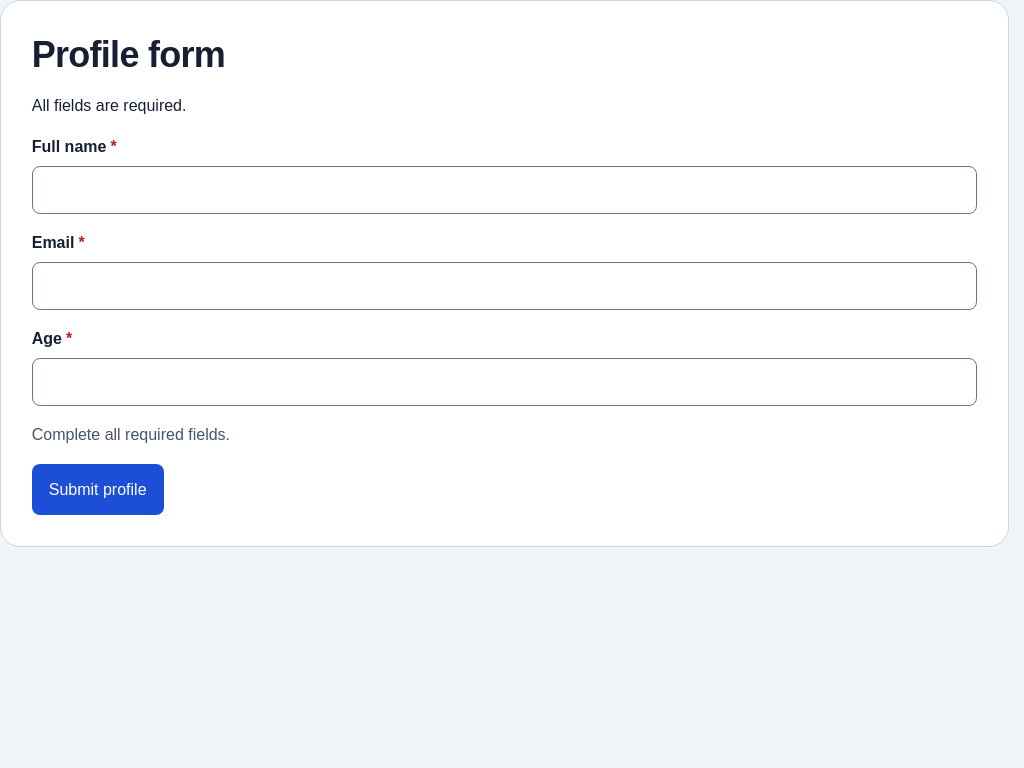
Scenario: Valid submit and ShowData › updates the inspector only after the next valid submit
This screenshot has width=1024, height=768.
Type "  Đặng   Hoài An  " into the field labelled "Full name" at [504, 190], box [32,166,977,214]
Type "an@example.com" into the field labelled "Email" at [504, 286], box [32,262,977,310]
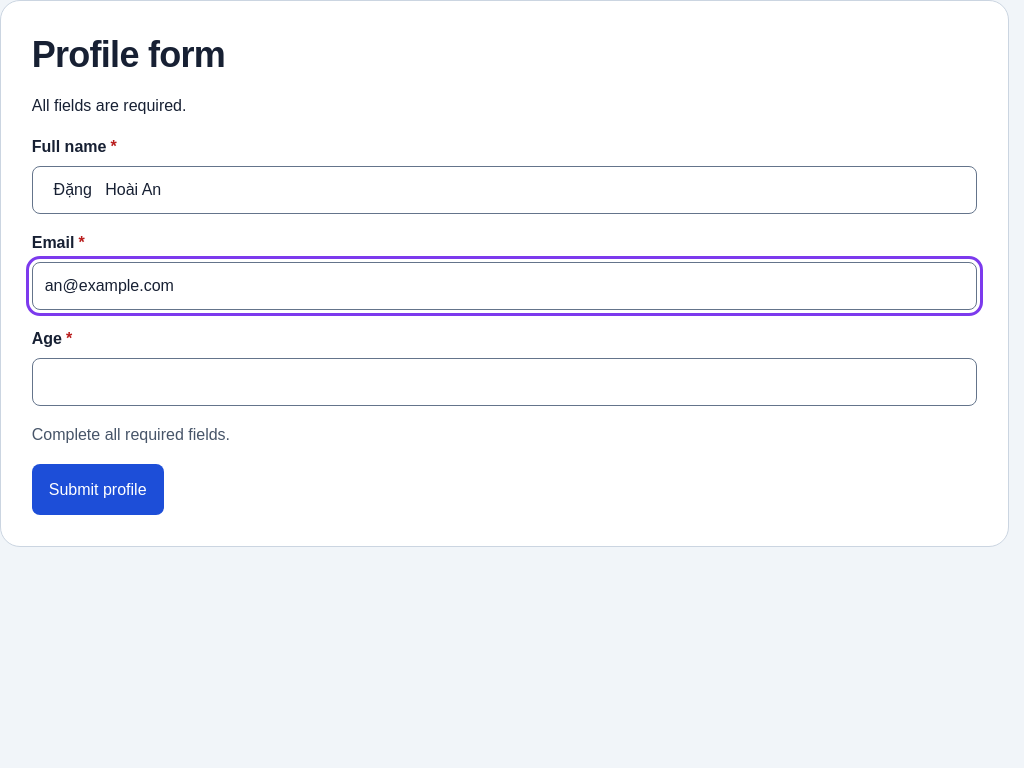
Type "021" into the field labelled "Age" at [504, 382], box [32,358,977,406]
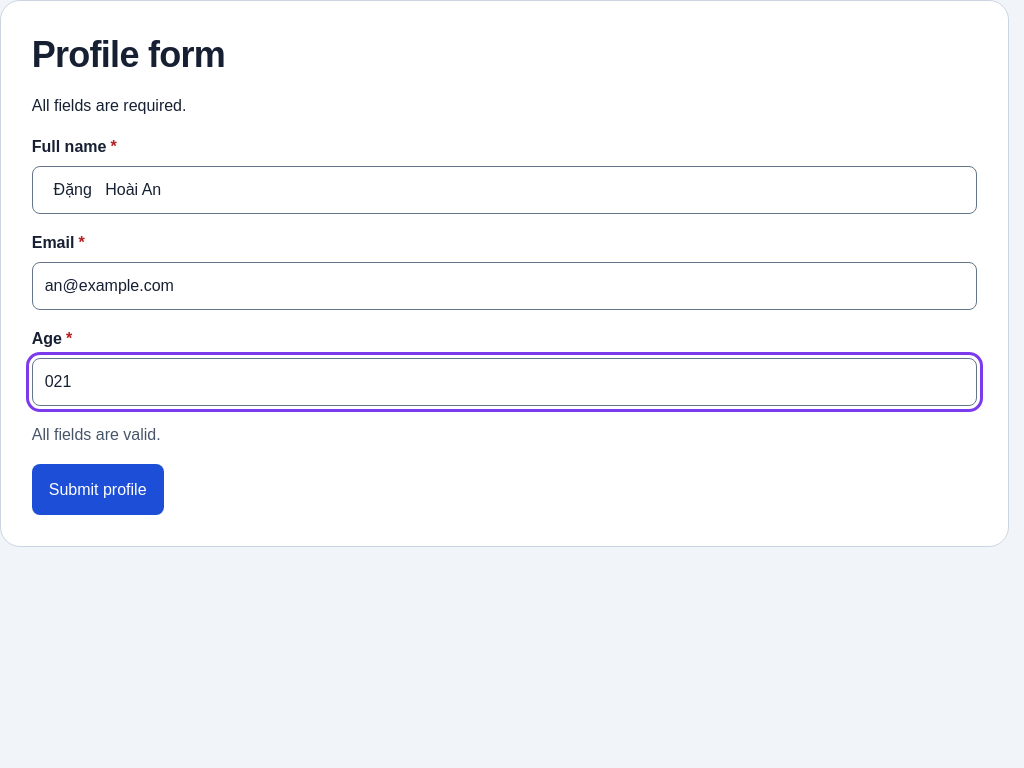
Click the button "Submit profile" at [98, 490], box [32,464,164,515]
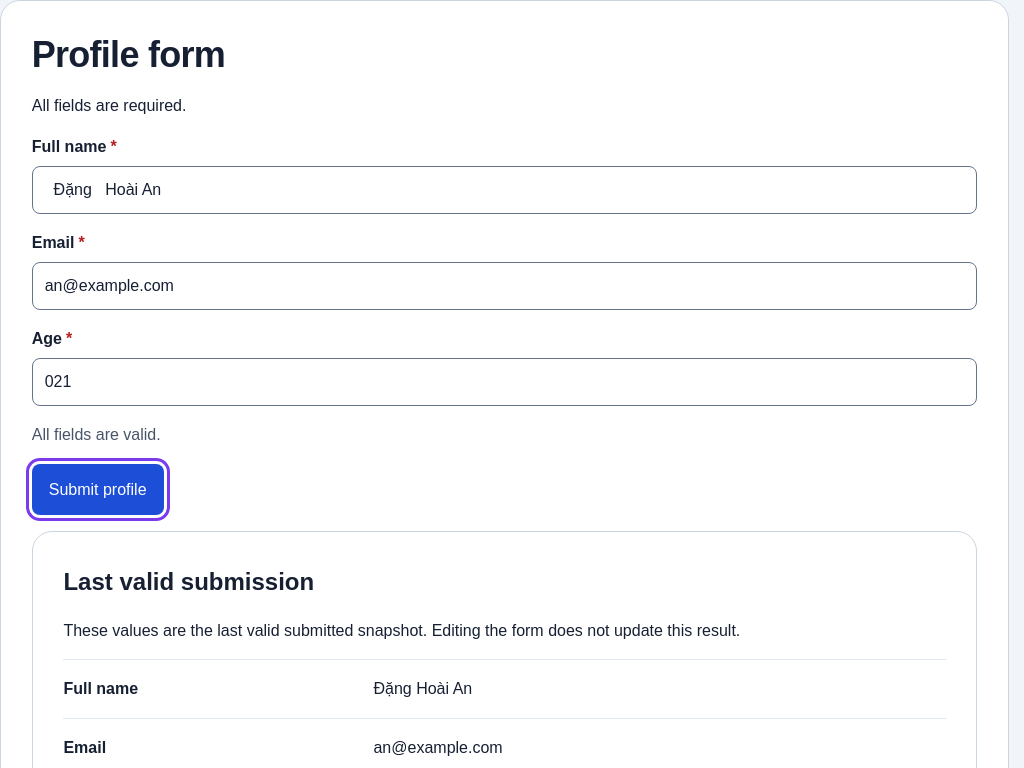
Replace the text in the field labelled "Full name" with "Alex Morgan" at [504, 190], box [32,166,977,214]
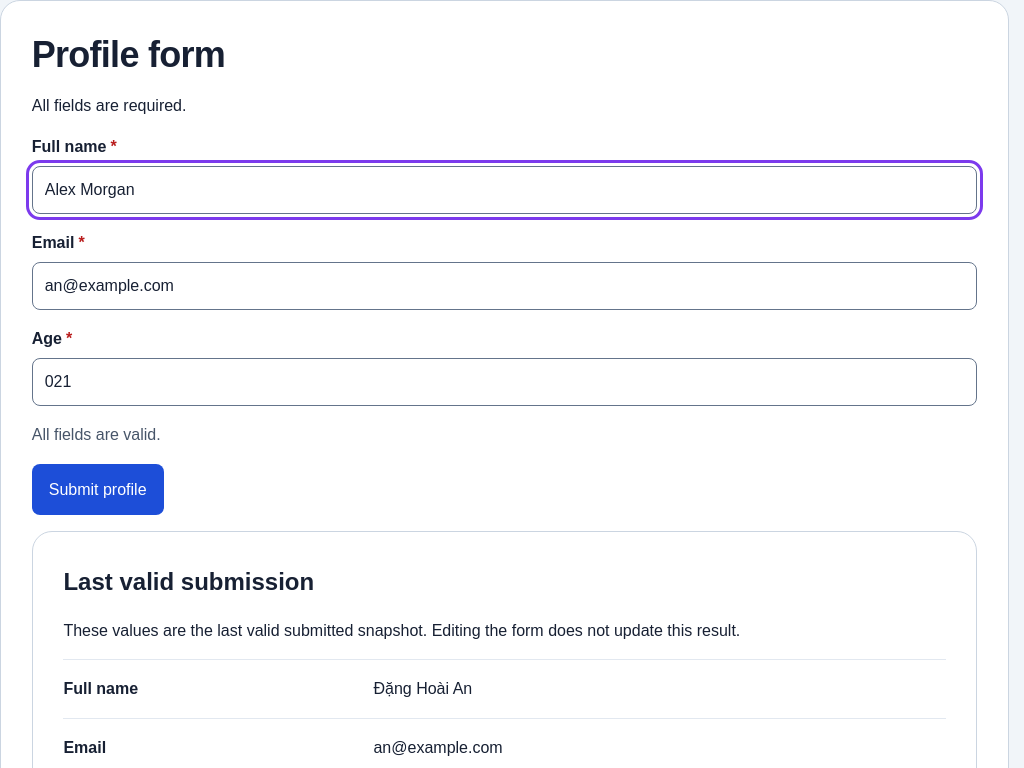
Replace the text in the field labelled "Age" with "30" at [504, 382], box [32,358,977,406]
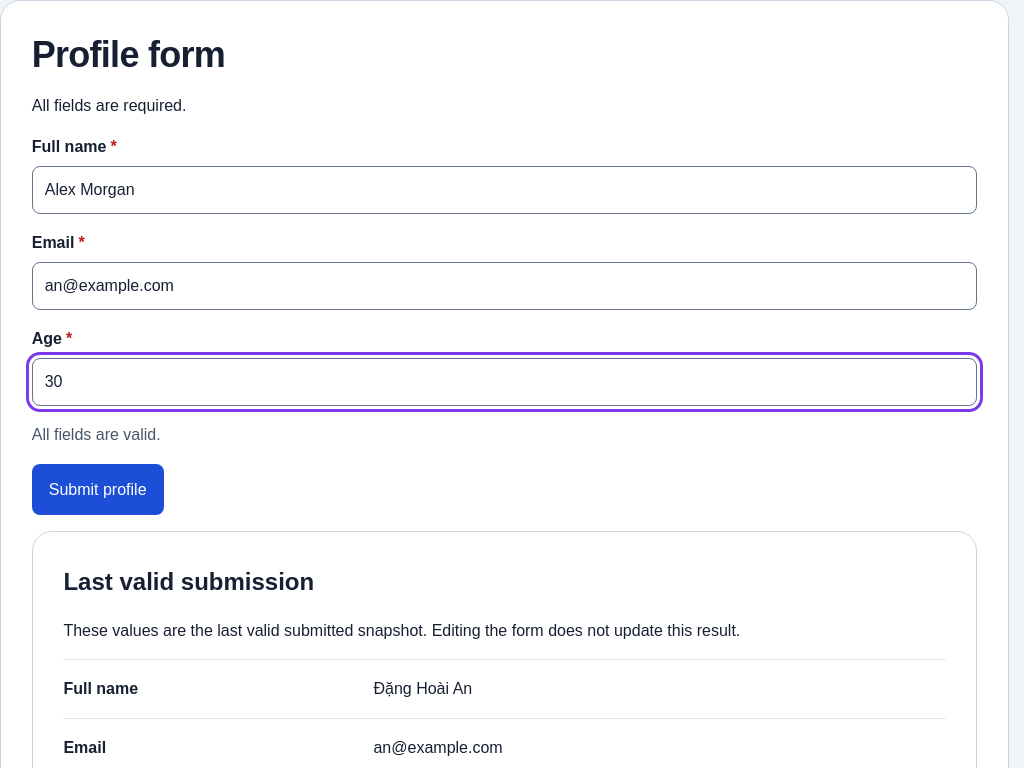
Expected: the text "Full name" is shown, [63,680,138,697]
Expected: the text "Đặng Hoài An" is shown, [374,680,472,697]
Click the button "Submit profile" at [98, 490], box [32,464,164,515]
(page scrolled)
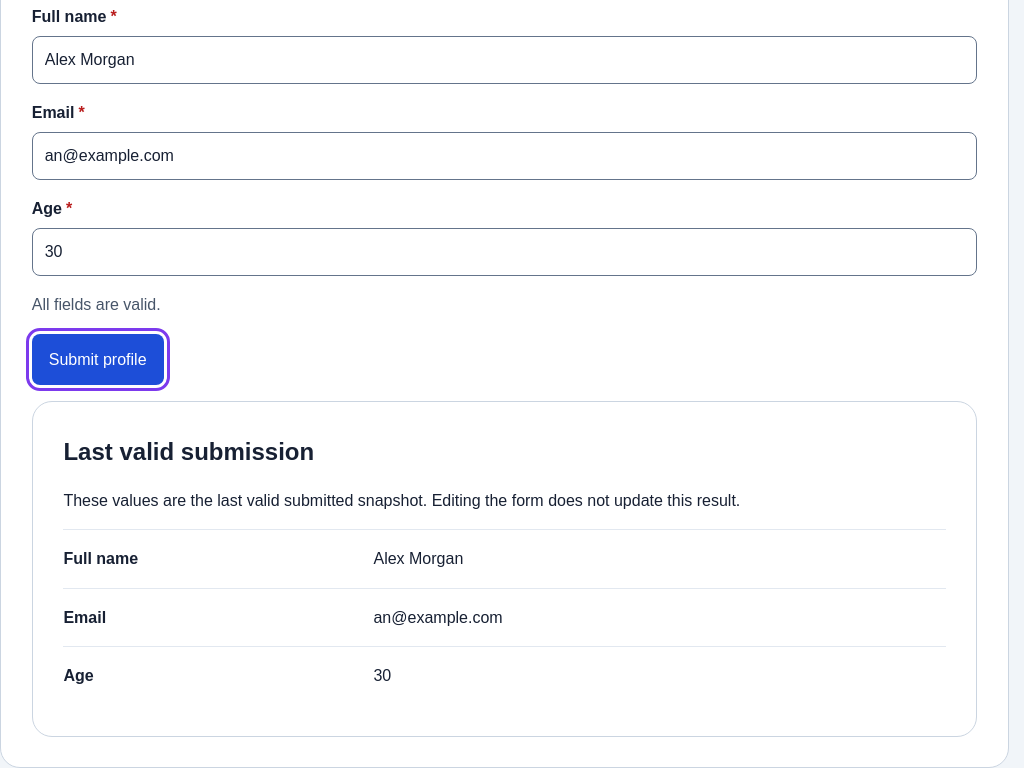
Expected: the text "Full name" is shown, [63,550,138,567]
Expected: the text "Age" is shown, [63,667,94,684]
Expected: the text "Alex Morgan" is shown, [374,550,463,567]
